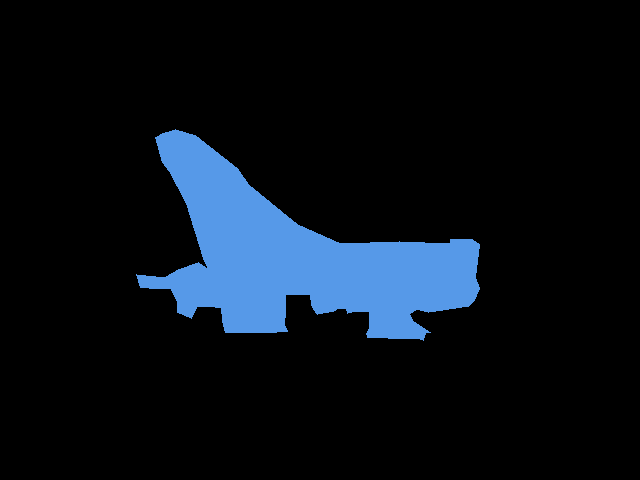Airplane: (136, 129, 480, 341)
